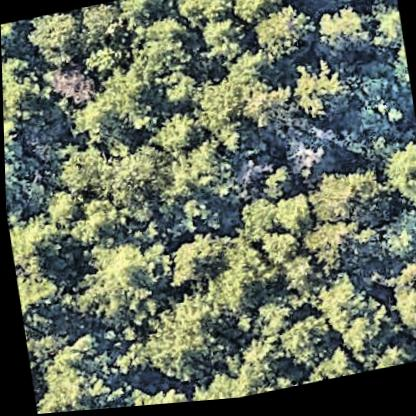tree-top: (141, 290, 234, 395), (188, 62, 281, 156), (200, 237, 274, 345), (35, 328, 121, 414), (66, 65, 147, 156), (78, 232, 157, 321), (159, 129, 241, 212), (298, 214, 383, 286), (306, 165, 389, 238), (102, 146, 176, 226), (120, 28, 187, 113), (242, 0, 319, 73), (1, 50, 53, 154), (153, 230, 231, 299), (331, 302, 393, 382), (305, 276, 372, 349), (287, 56, 348, 130), (308, 7, 373, 72), (25, 9, 90, 74), (181, 358, 268, 405), (12, 257, 68, 329), (277, 312, 336, 374), (53, 142, 113, 202), (5, 208, 62, 270), (243, 292, 305, 347), (150, 104, 207, 163), (73, 2, 129, 57), (264, 190, 317, 247), (233, 191, 284, 249), (379, 144, 416, 222), (193, 19, 249, 70), (383, 257, 416, 343), (372, 208, 416, 271), (69, 199, 123, 249), (47, 62, 99, 113), (301, 346, 362, 388), (273, 251, 319, 301), (116, 0, 172, 39), (300, 0, 397, 22), (170, 0, 236, 32), (223, 0, 297, 27), (363, 8, 403, 55), (254, 230, 295, 275), (113, 386, 186, 409), (253, 164, 288, 201), (1, 21, 21, 61), (407, 320, 416, 367)
